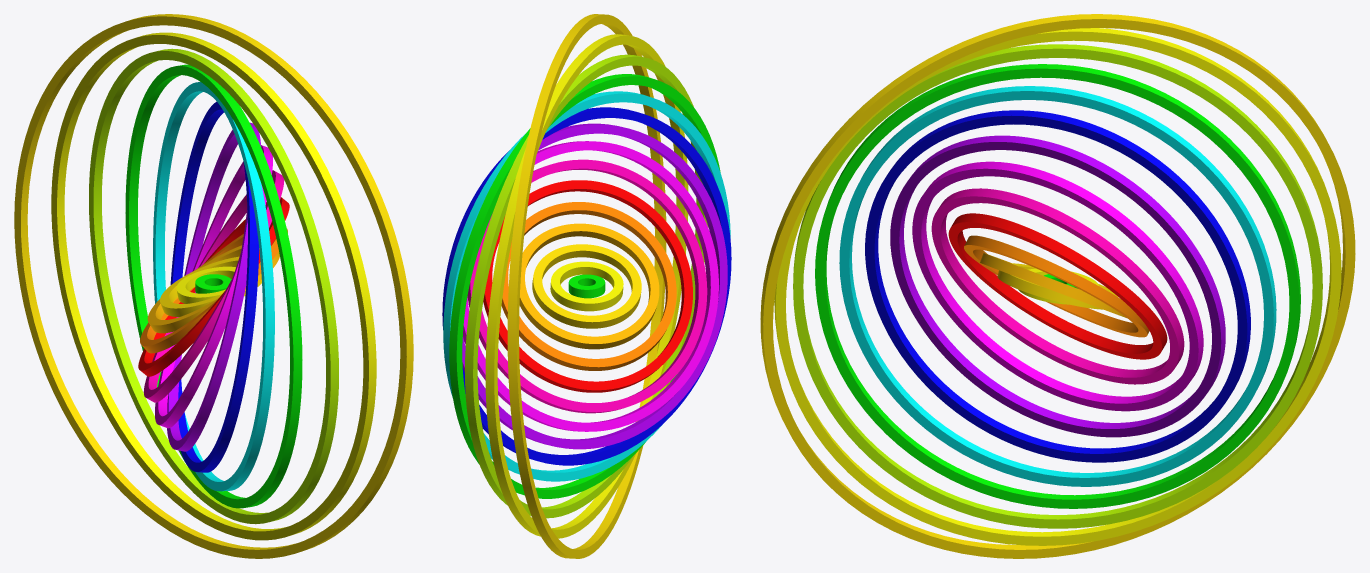
The model's file is 2841241_Abstract-Concentric-Circles-Rainbow-001.glb.
The picture shows the model from 3 angles, left to right: view 1: azimuth 30°, elevation 25°; view 2: azimuth 150°, elevation 25°; view 3: azimuth 270°, elevation 25°; orthographic projection. The views are drawn at different scales.
Visible parts, largest first — view 1: Abstract-Concentric-Circles-Rainbow-001; view 2: Abstract-Concentric-Circles-Rainbow-001; view 3: Abstract-Concentric-Circles-Rainbow-001.
Part boxes in pixels (x1,y1,x2,y2): Abstract-Concentric-Circles-Rainbow-001: (14, 14, 413, 558); Abstract-Concentric-Circles-Rainbow-001: (442, 14, 731, 558); Abstract-Concentric-Circles-Rainbow-001: (760, 14, 1355, 558).
Bounding box in the file's own units: 0.3892 × 1.14 × 1.11.
